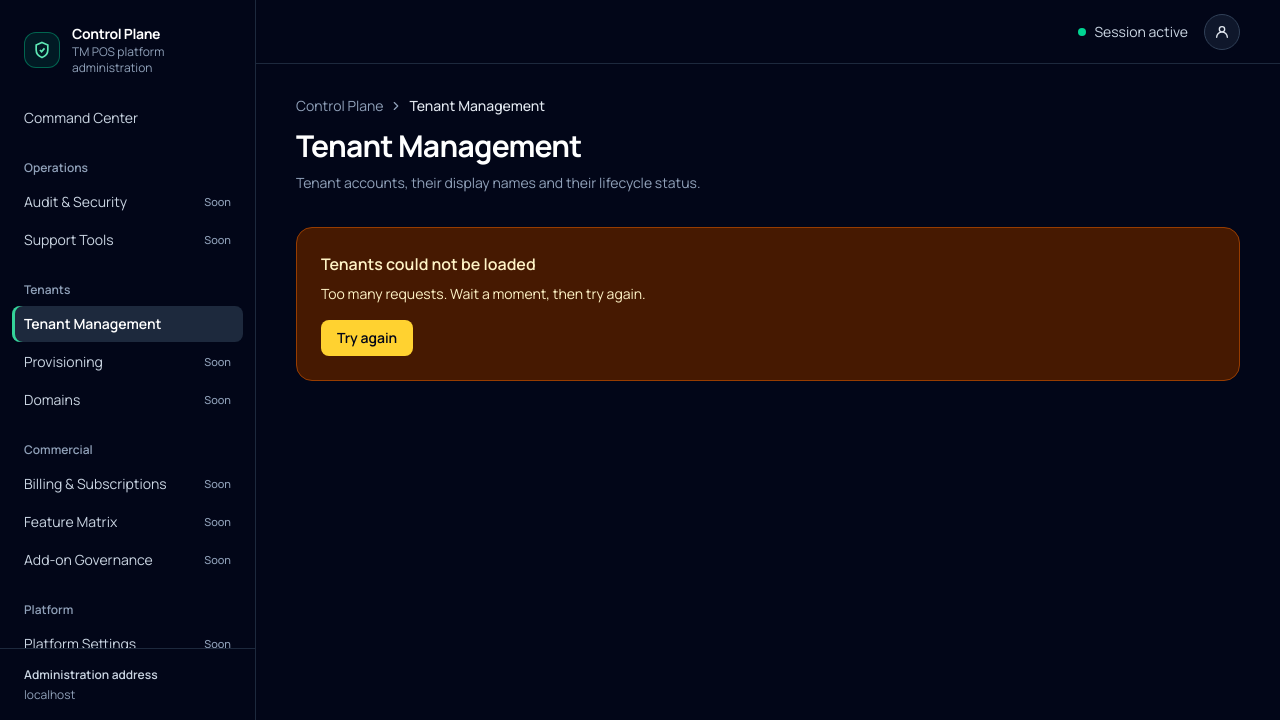
Test: Tenant Management: the directory › shows a bounded failure when the server is busy, and Try again reads the list
The width and height of the screenshot is (1280, 720).
Expected: the heading "Tenant Management" is shown, [296,125,582,166]
Expected: the heading "Tenants could not be loaded" is shown, [321,253,536,275]
What coordinates should you click on to do the following:
click the button "Try again"
I would click on:
 (367, 338)
Its box is [321,320,413,356].
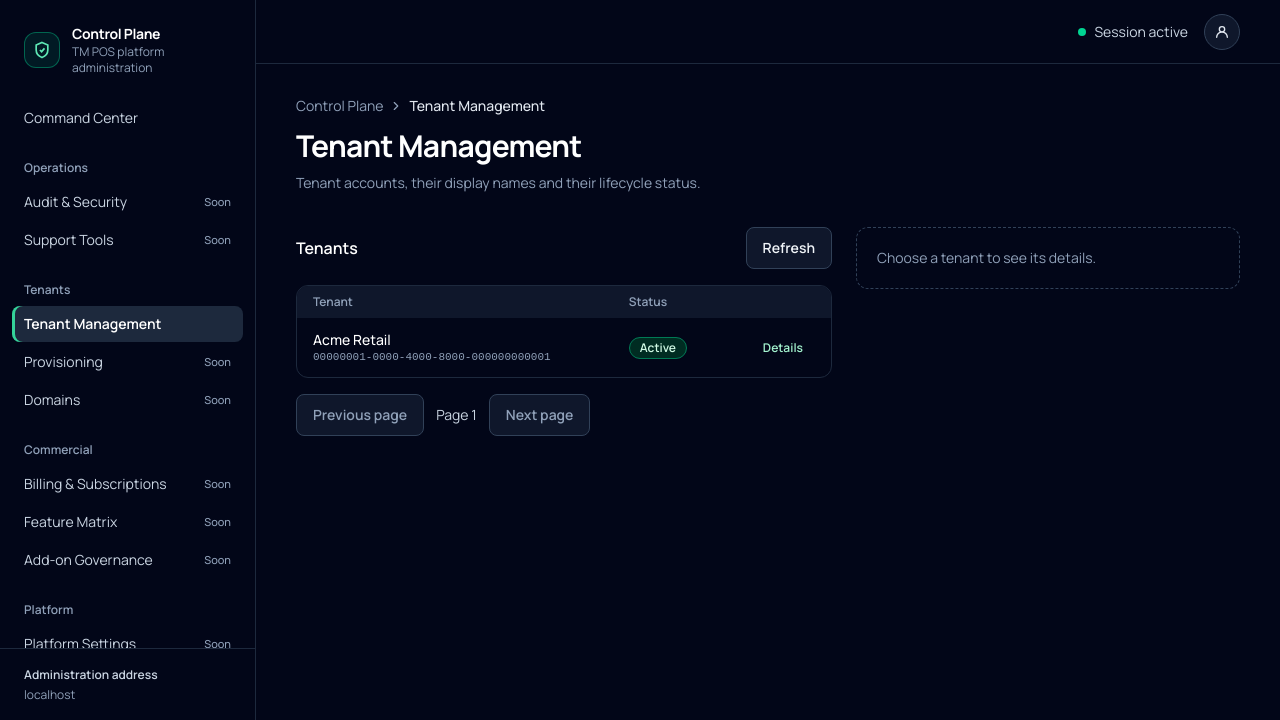
Expected: the table is shown, [297,286,831,378]
Expected: the message is gone
